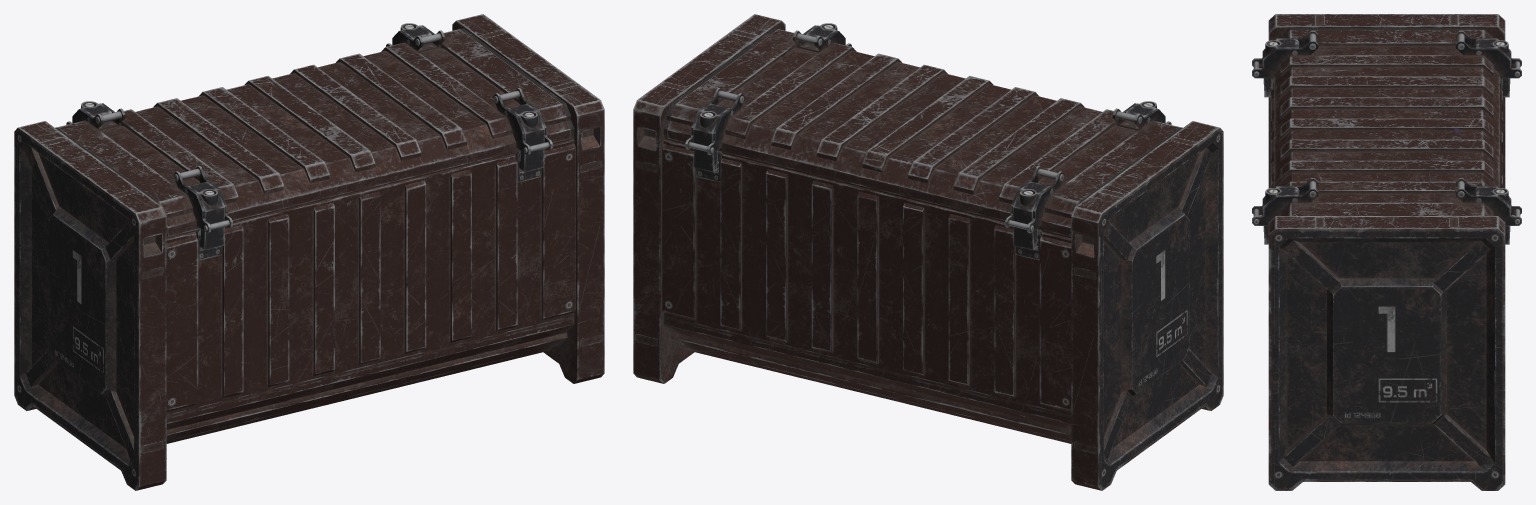
The model's file is Container.fbx.
3 views of the same model, side by side, from view 1: azimuth 30°, elevation 25°; view 2: azimuth 150°, elevation 25°; view 3: azimuth 270°, elevation 25° (orthographic). The views are drawn at different scales.
Parts seen in each view (by area): view 1: Container_Base1, Container_Cap, Container_Clamp2, Container_Clamp4; view 2: Container_Base1, Container_Cap, Container_Clamp1, Container_Clamp3; view 3: Container_Base1, Container_Cap, Container_Clamp3, Container_Clamp4, Container_Clamp1, Container_Clamp2.
Part boxes in pixels (x1,y1,x2,y2): Container_Base1: (14,14,604,490); Container_Cap: (55,25,574,236); Container_Clamp2: (508,103,544,172); Container_Clamp4: (188,181,224,250); Container_Base1: (633,14,1223,490); Container_Cap: (663,25,1182,236); Container_Clamp1: (693,103,729,172); Container_Clamp3: (1013,181,1049,250); Container_Base1: (1268,14,1505,490); Container_Cap: (1252,28,1521,225); Container_Clamp3: (1474,39,1511,97); Container_Clamp4: (1262,39,1299,97); Container_Clamp1: (1474,186,1511,244); Container_Clamp2: (1262,186,1299,244).
Bounding box in the file's own units: 404 × 240 × 215.
4 materials, 4 textured.
